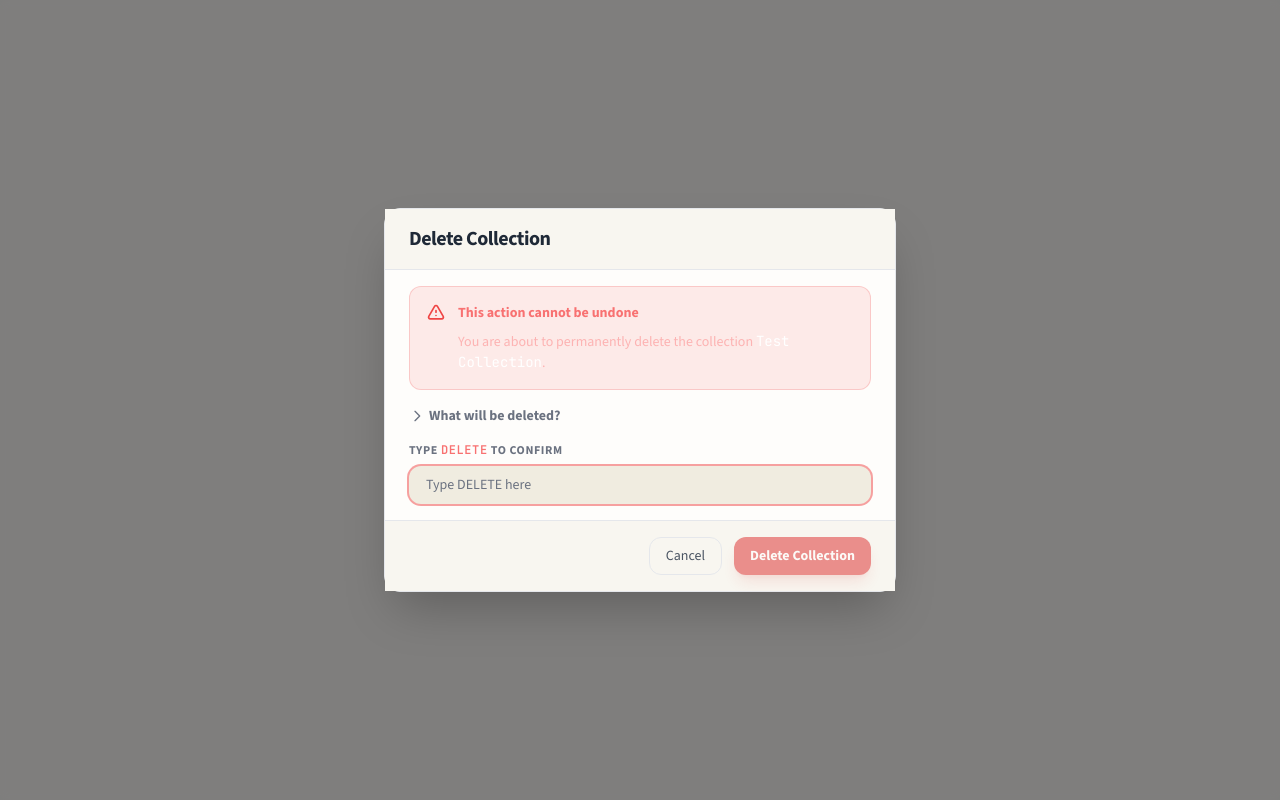
Test case: DeleteCollectionModal › Details Toggle › should toggle details visibility
# Open details
Step 1. Click the button "What will be deleted?" → (485, 416), box [409,406,560,426]
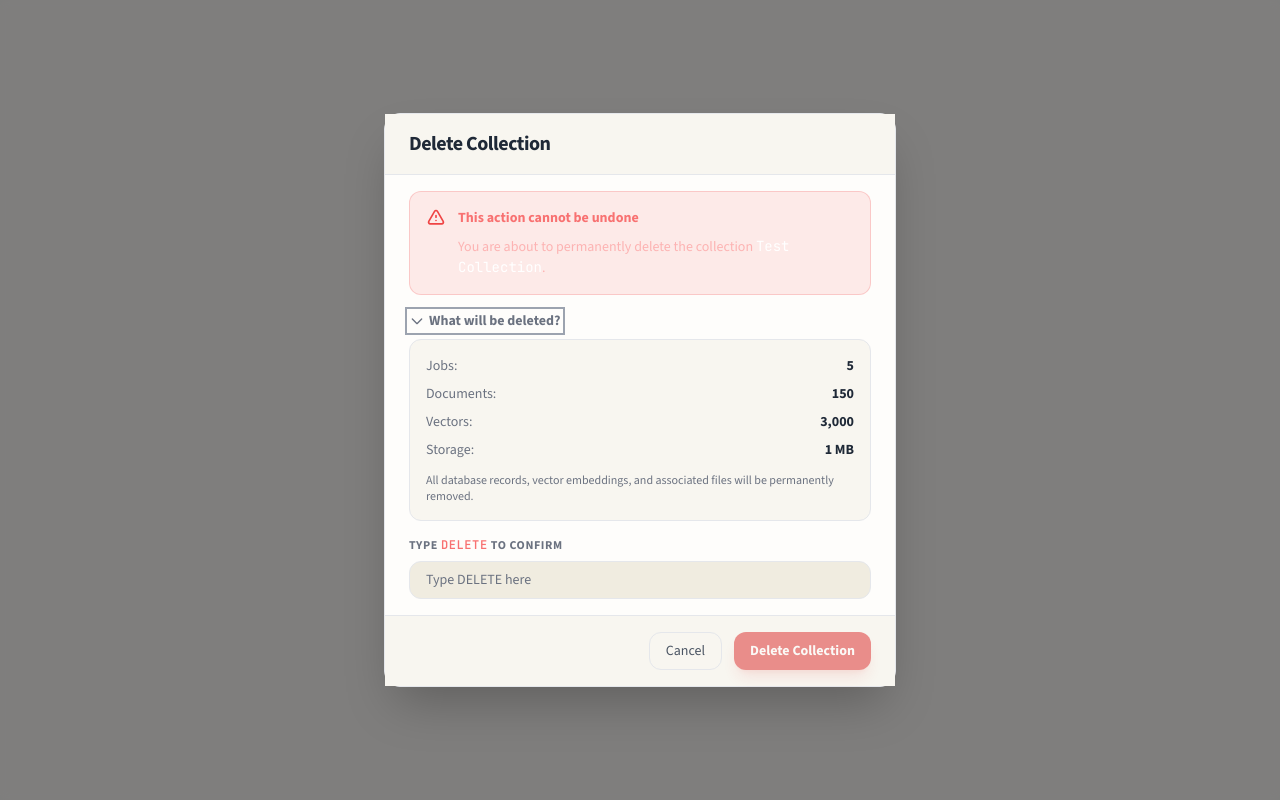
Expected: the text "Jobs:" is shown, [426,356,457,376]
# Close details
Step 2. Click the button "What will be deleted?" → (485, 321), box [409,311,560,331]
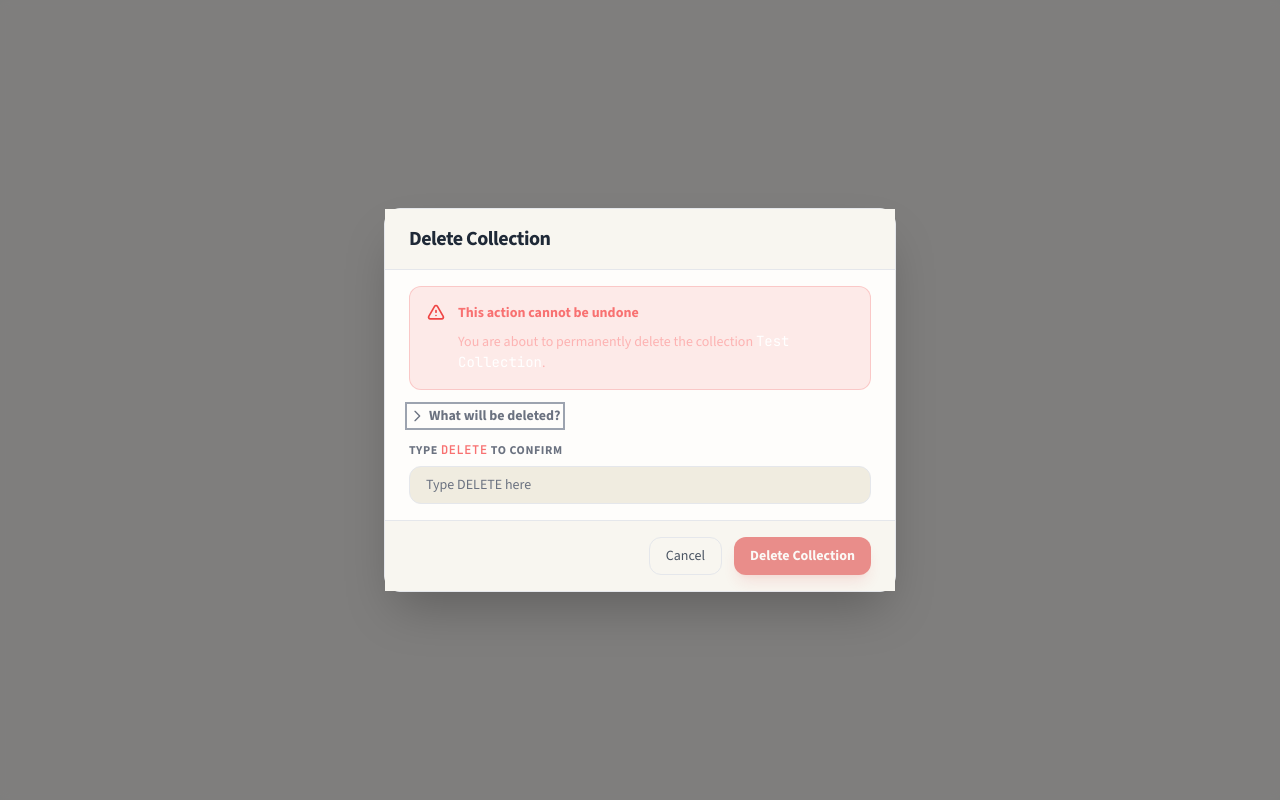
Expected: the text "Jobs:" is gone
